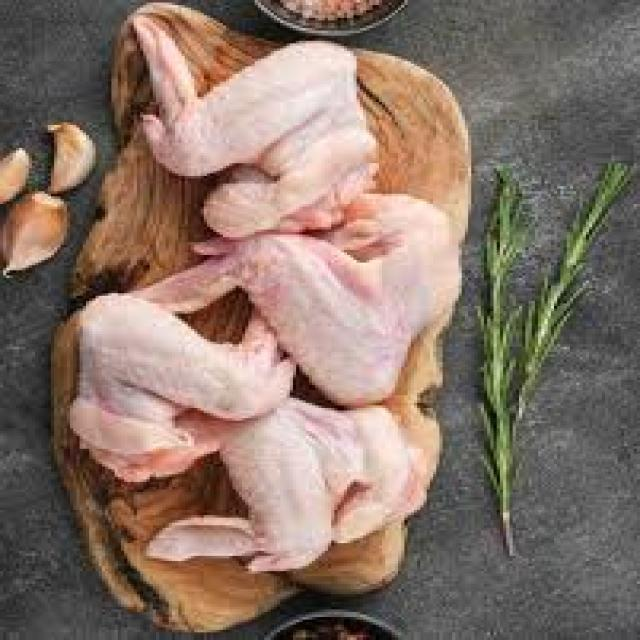wing: (120, 6, 371, 240), (182, 198, 456, 401), (177, 391, 436, 568), (68, 293, 290, 480)
